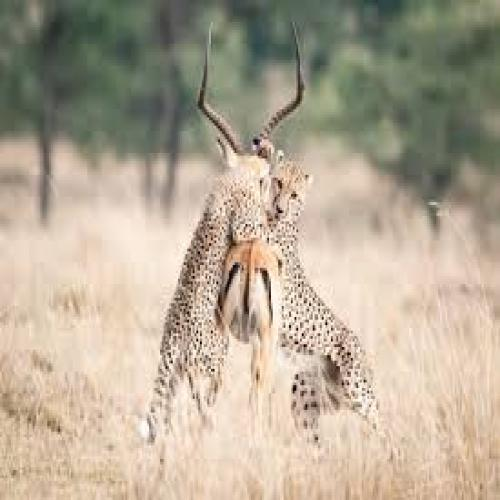cheetah-endangered: (259, 150, 377, 457), (157, 154, 271, 444)
